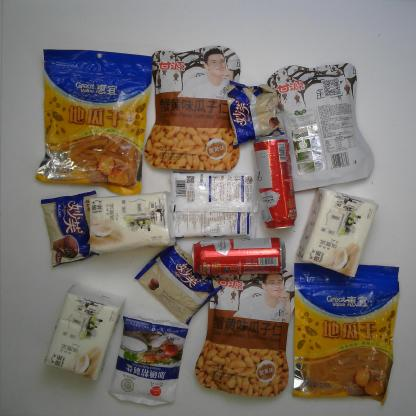Alcohol: (250, 129, 299, 232), (190, 233, 289, 277)
Dessert: (134, 239, 222, 328), (38, 189, 112, 268), (224, 79, 288, 149)
Dried Fruit: (31, 44, 159, 197), (285, 260, 401, 404), (263, 57, 376, 197), (189, 265, 297, 402), (143, 45, 244, 177)
Seasoner: (107, 309, 193, 411), (162, 165, 262, 242)
Tissue: (37, 281, 130, 384), (297, 184, 379, 280), (84, 189, 177, 255)
